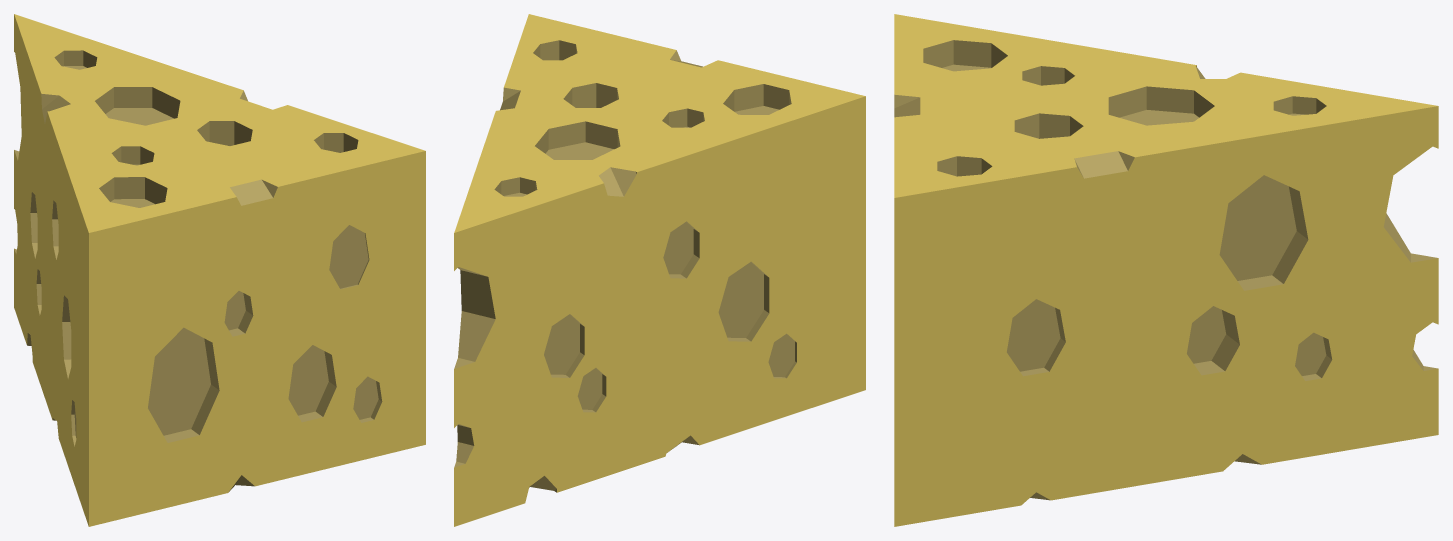
Rendered from Cheese_Block.fbx.
3 renders of one model, left to right at view 1: azimuth 30°, elevation 25°; view 2: azimuth 150°, elevation 25°; view 3: azimuth 270°, elevation 25°, orthographic. The views are drawn at different scales.
Parts seen in each view (by area): view 1: Cheese_Block; view 2: Cheese_Block; view 3: Cheese_Block.
Part boxes in pixels (x1,y1,x2,y2): Cheese_Block: (14, 14, 425, 526); Cheese_Block: (454, 14, 865, 526); Cheese_Block: (894, 14, 1438, 526).
Size of the model in its own units: 0.48 by 0.4 by 0.6.
